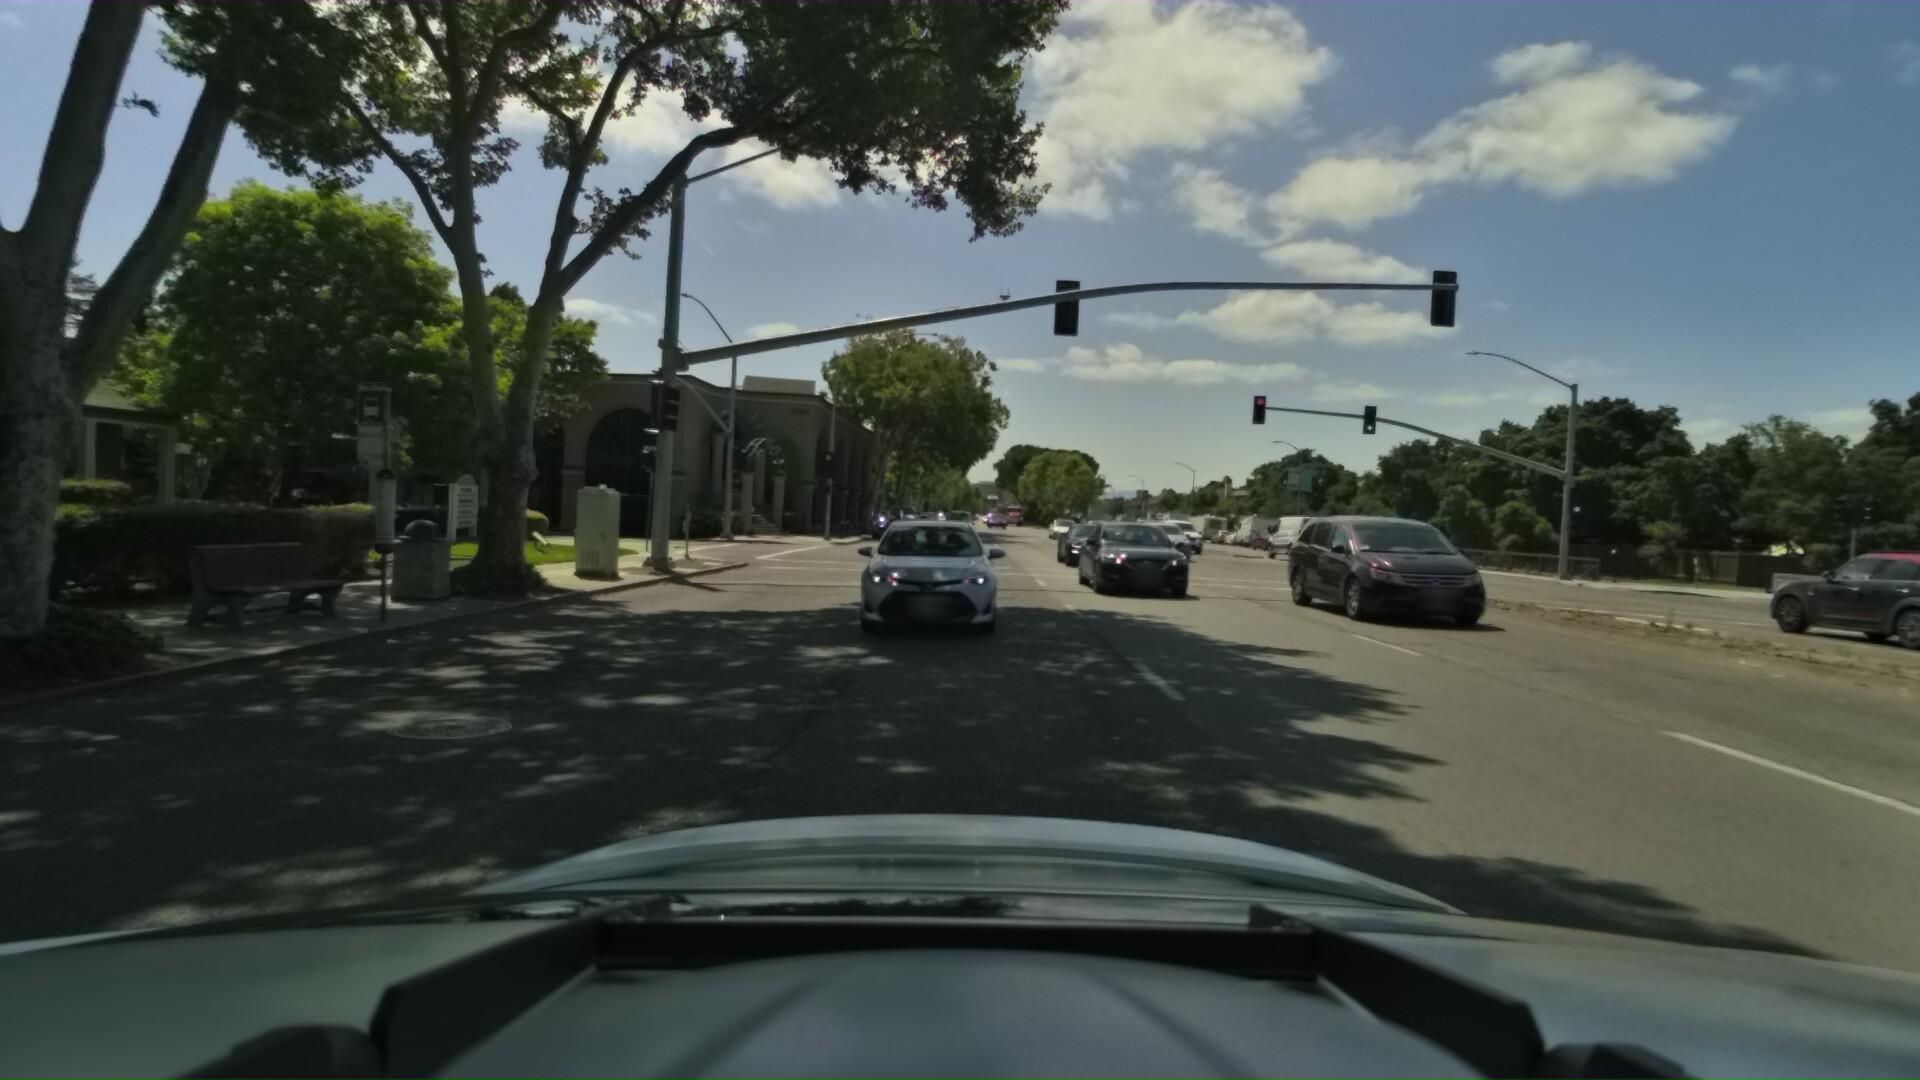car: (1258, 506, 1472, 626), (1750, 525, 1920, 670), (843, 510, 1001, 651), (1065, 510, 1178, 591), (1259, 509, 1342, 563), (1047, 513, 1118, 566), (891, 510, 955, 564), (1121, 512, 1189, 556), (1145, 512, 1201, 553), (272, 480, 336, 513), (869, 505, 911, 541), (884, 502, 923, 537), (1246, 521, 1292, 549), (1042, 513, 1077, 538), (943, 509, 973, 537), (942, 501, 971, 522)
